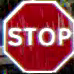Stop: (2, 0, 73, 73)
